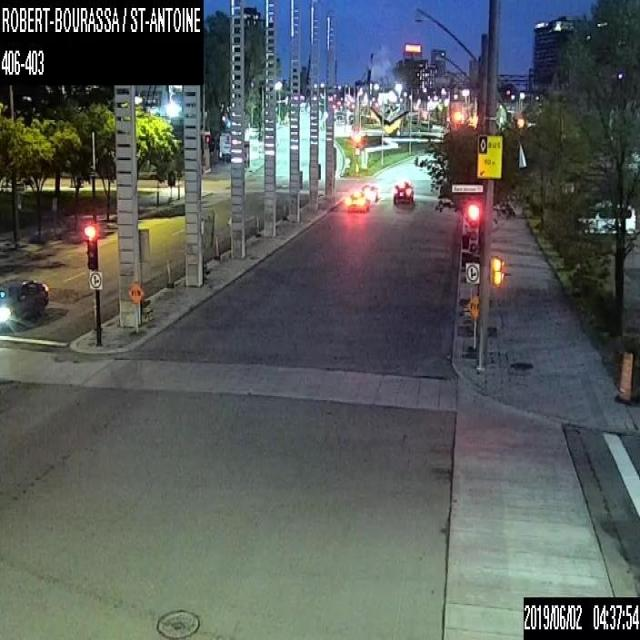construction: (137, 227, 152, 319), (127, 279, 144, 334), (201, 210, 214, 279), (617, 350, 634, 401), (466, 294, 479, 358)
vehicle: (0, 276, 48, 329), (580, 200, 636, 238), (347, 190, 368, 212), (393, 180, 413, 202), (362, 183, 378, 201)
